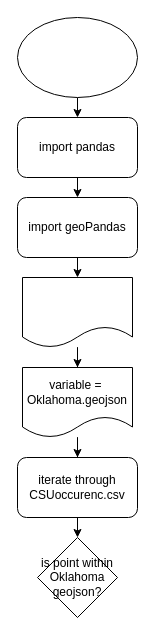
This 155x635 diagram has some shape labels left out. Each missing label, with the centre of its shape:
"begin process" goes at point (77, 57).
"variable = CSUoccurence.csv" goes at point (77, 312).
